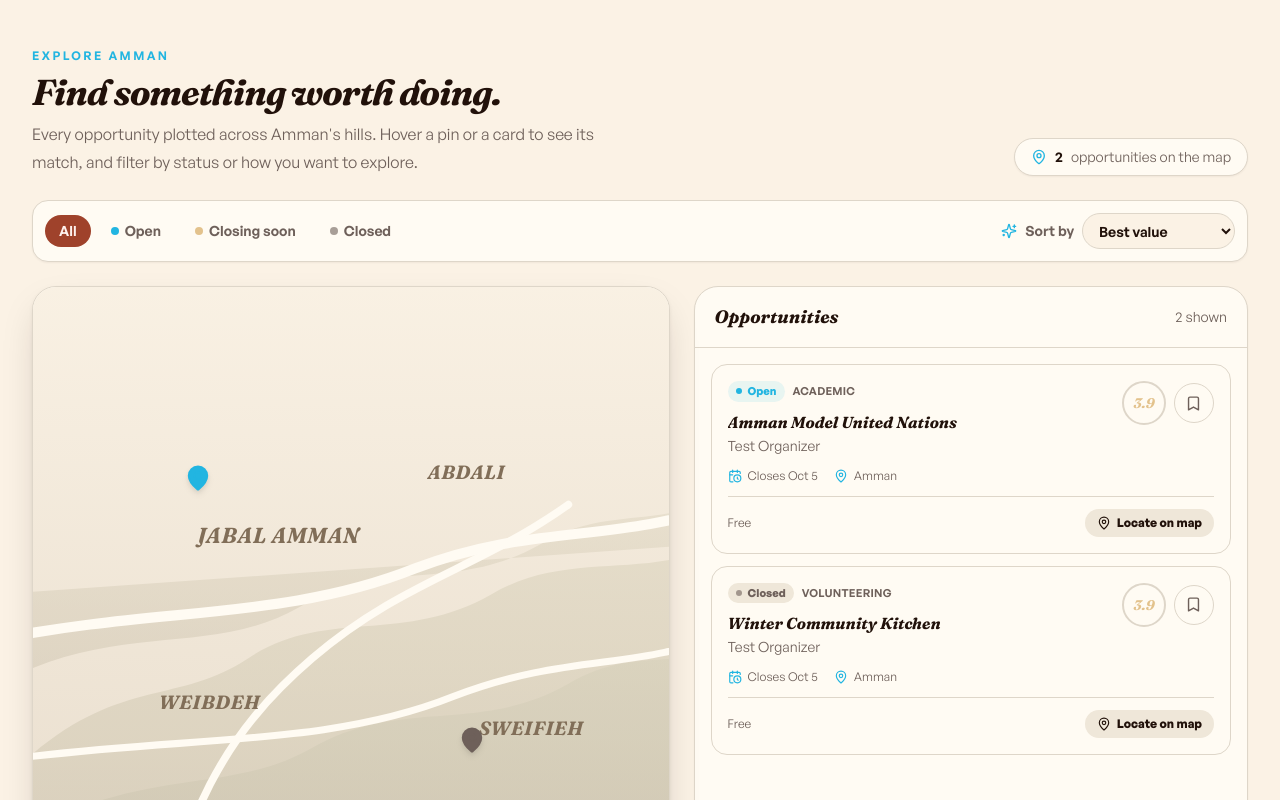
Test case: MapPage › filters markers by status
The width and height of the screenshot is (1280, 800).
Check: the button with test id "map_marker.0" is shown, box [184,464,212,492]
Click the button with test id "map_status_filter_closed" at (360, 231), box [316,215,405,247]
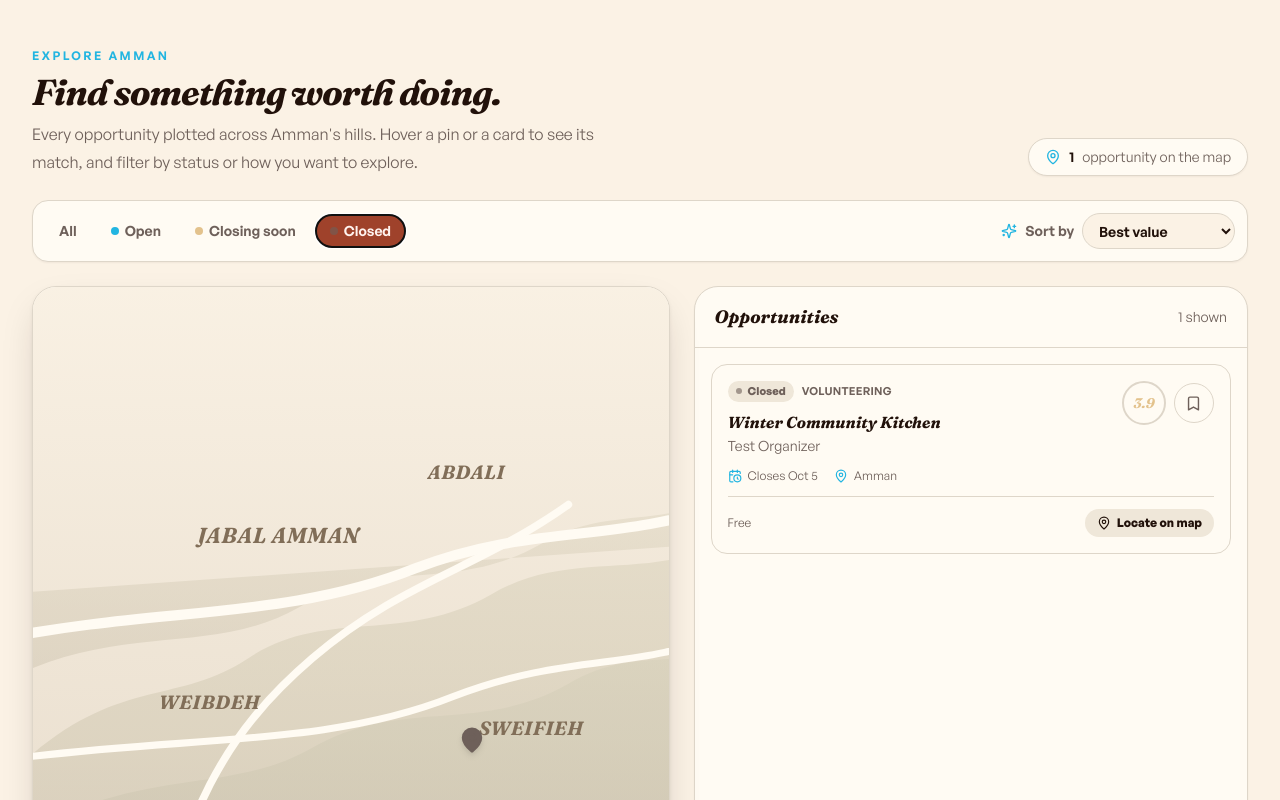
Check: the link "Winter Community Kitchen" is shown, box [728,412,941,432]
Check: the link "Amman Model United Nations" is gone
